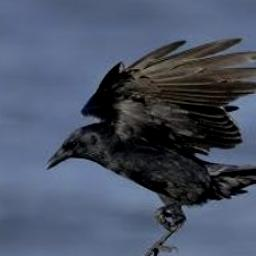Crow: (44, 37, 256, 256)
